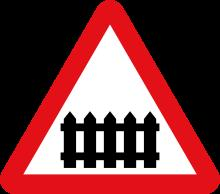Barrier Ahead: (8, 11, 207, 184)
